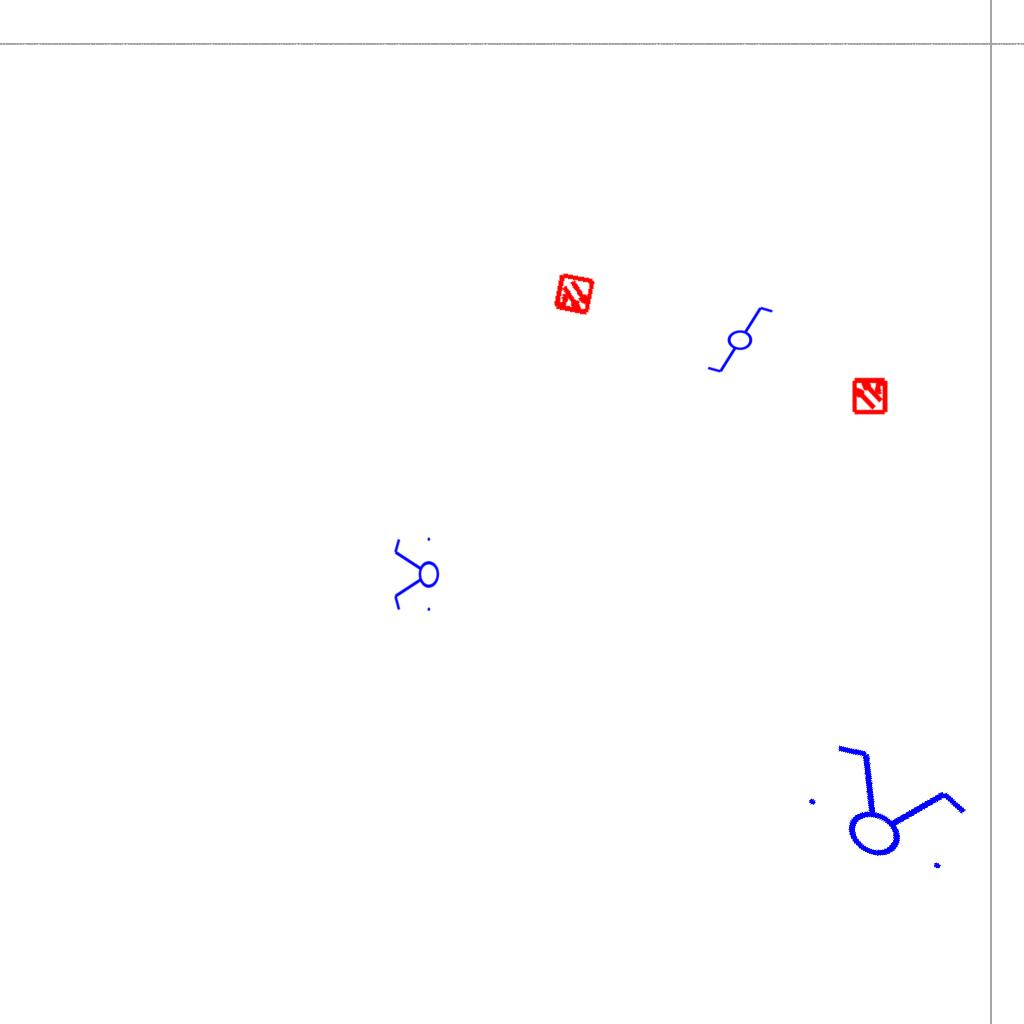OT_Multisensormelder_(Kombination_RMO_WMD): (541, 262, 607, 328), (842, 367, 898, 423)
Serienschalter: (788, 729, 982, 891), (392, 533, 440, 617)
Wechselschalter: (697, 303, 775, 375)
